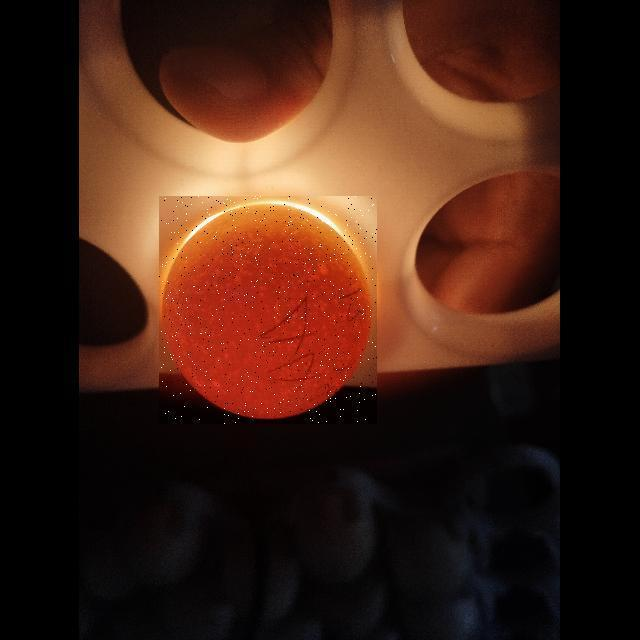Inedible: (162, 193, 373, 421)
